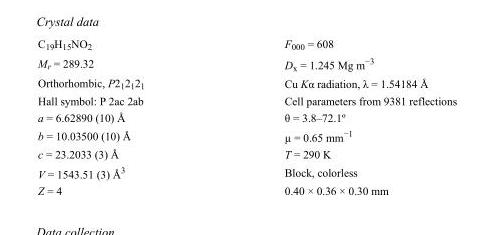table: (37, 36, 456, 196)
table column: (213, 36, 456, 196), (37, 36, 213, 196)
table row: (37, 53, 456, 74), (37, 125, 456, 145), (37, 162, 456, 181), (37, 74, 456, 92), (37, 36, 456, 53), (37, 108, 456, 125), (37, 145, 456, 162), (37, 92, 456, 108), (37, 181, 456, 196)
